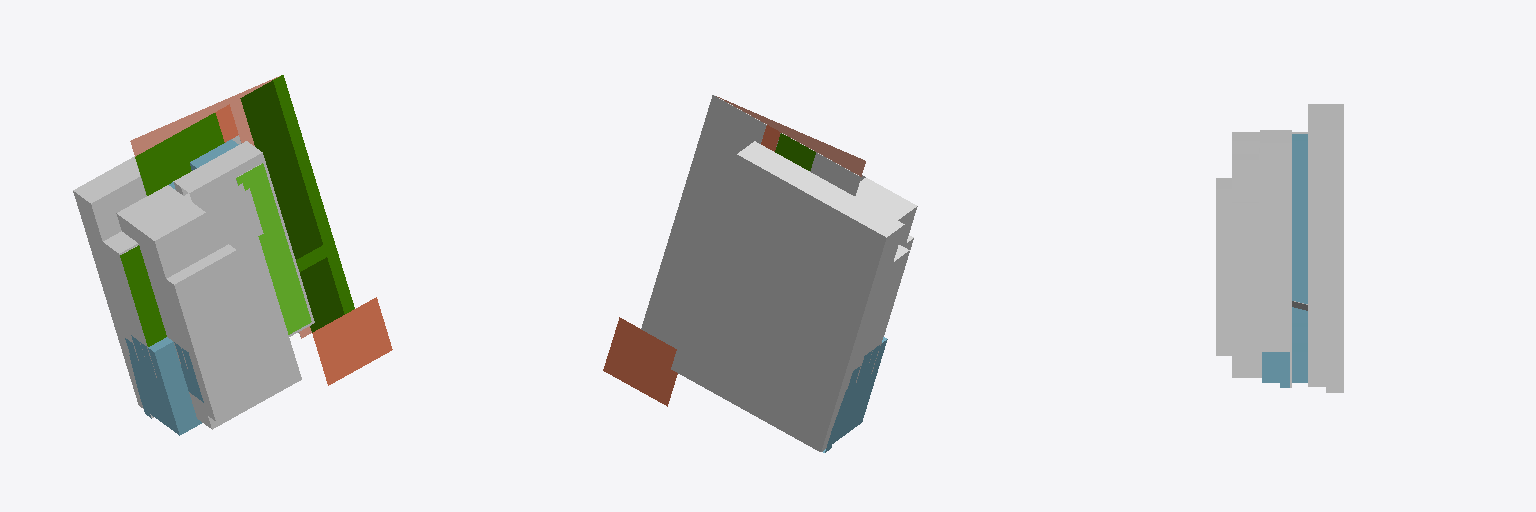
The model's file is opt1-3.obj.
3 views of the same model, side by side, from view 1: azimuth 30°, elevation 25°; view 2: azimuth 150°, elevation 25°; view 3: azimuth 270°, elevation 25° (orthographic).
Bounding box in the file's own units: 347 × 355 × 128.